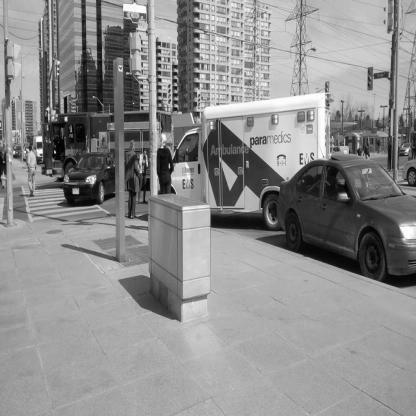ambulance: (168, 91, 327, 237)
car: (268, 153, 416, 289), (66, 148, 122, 210)
